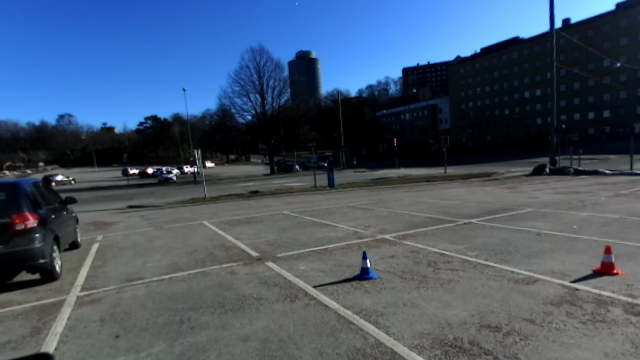blue: (349, 250, 379, 281)
orange: (589, 242, 626, 278)
